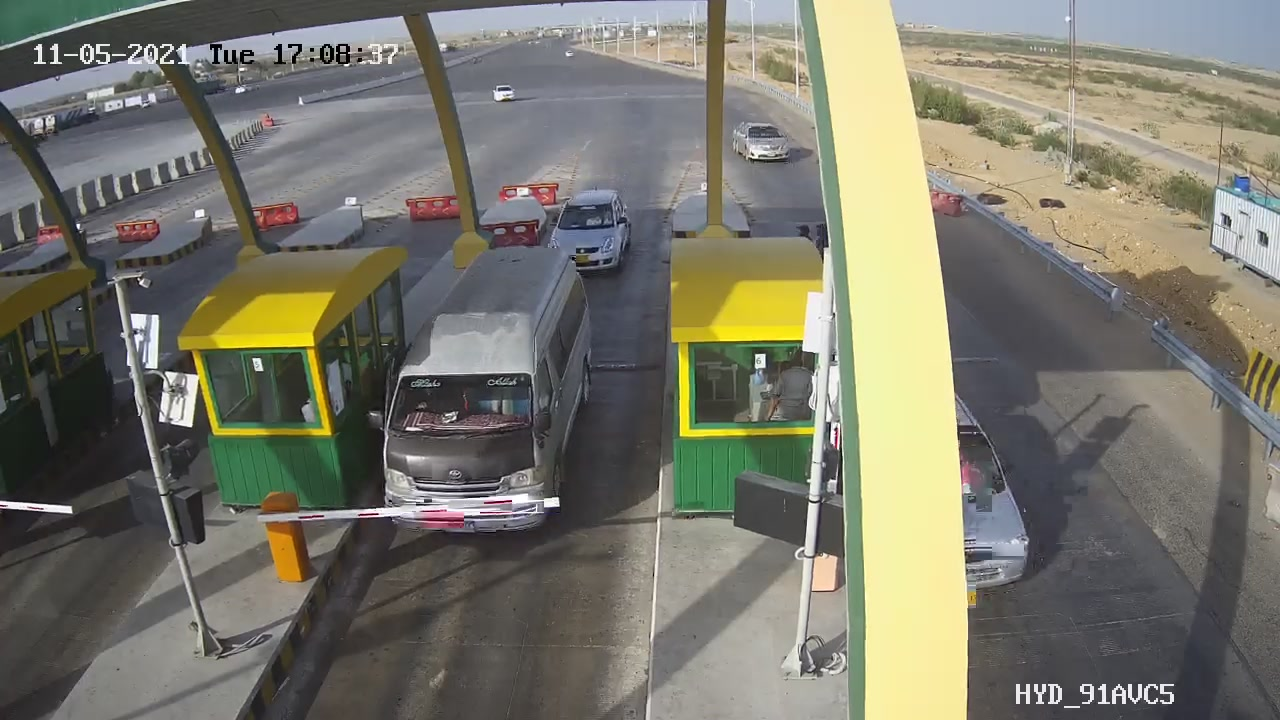F1: (534, 183, 642, 281)
F2: (388, 245, 609, 549)
